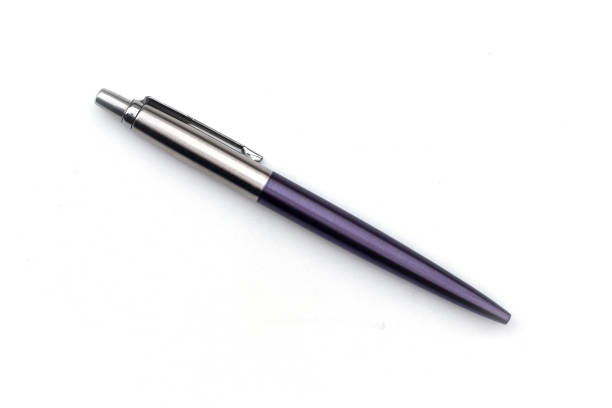pen: (90, 84, 533, 338)
